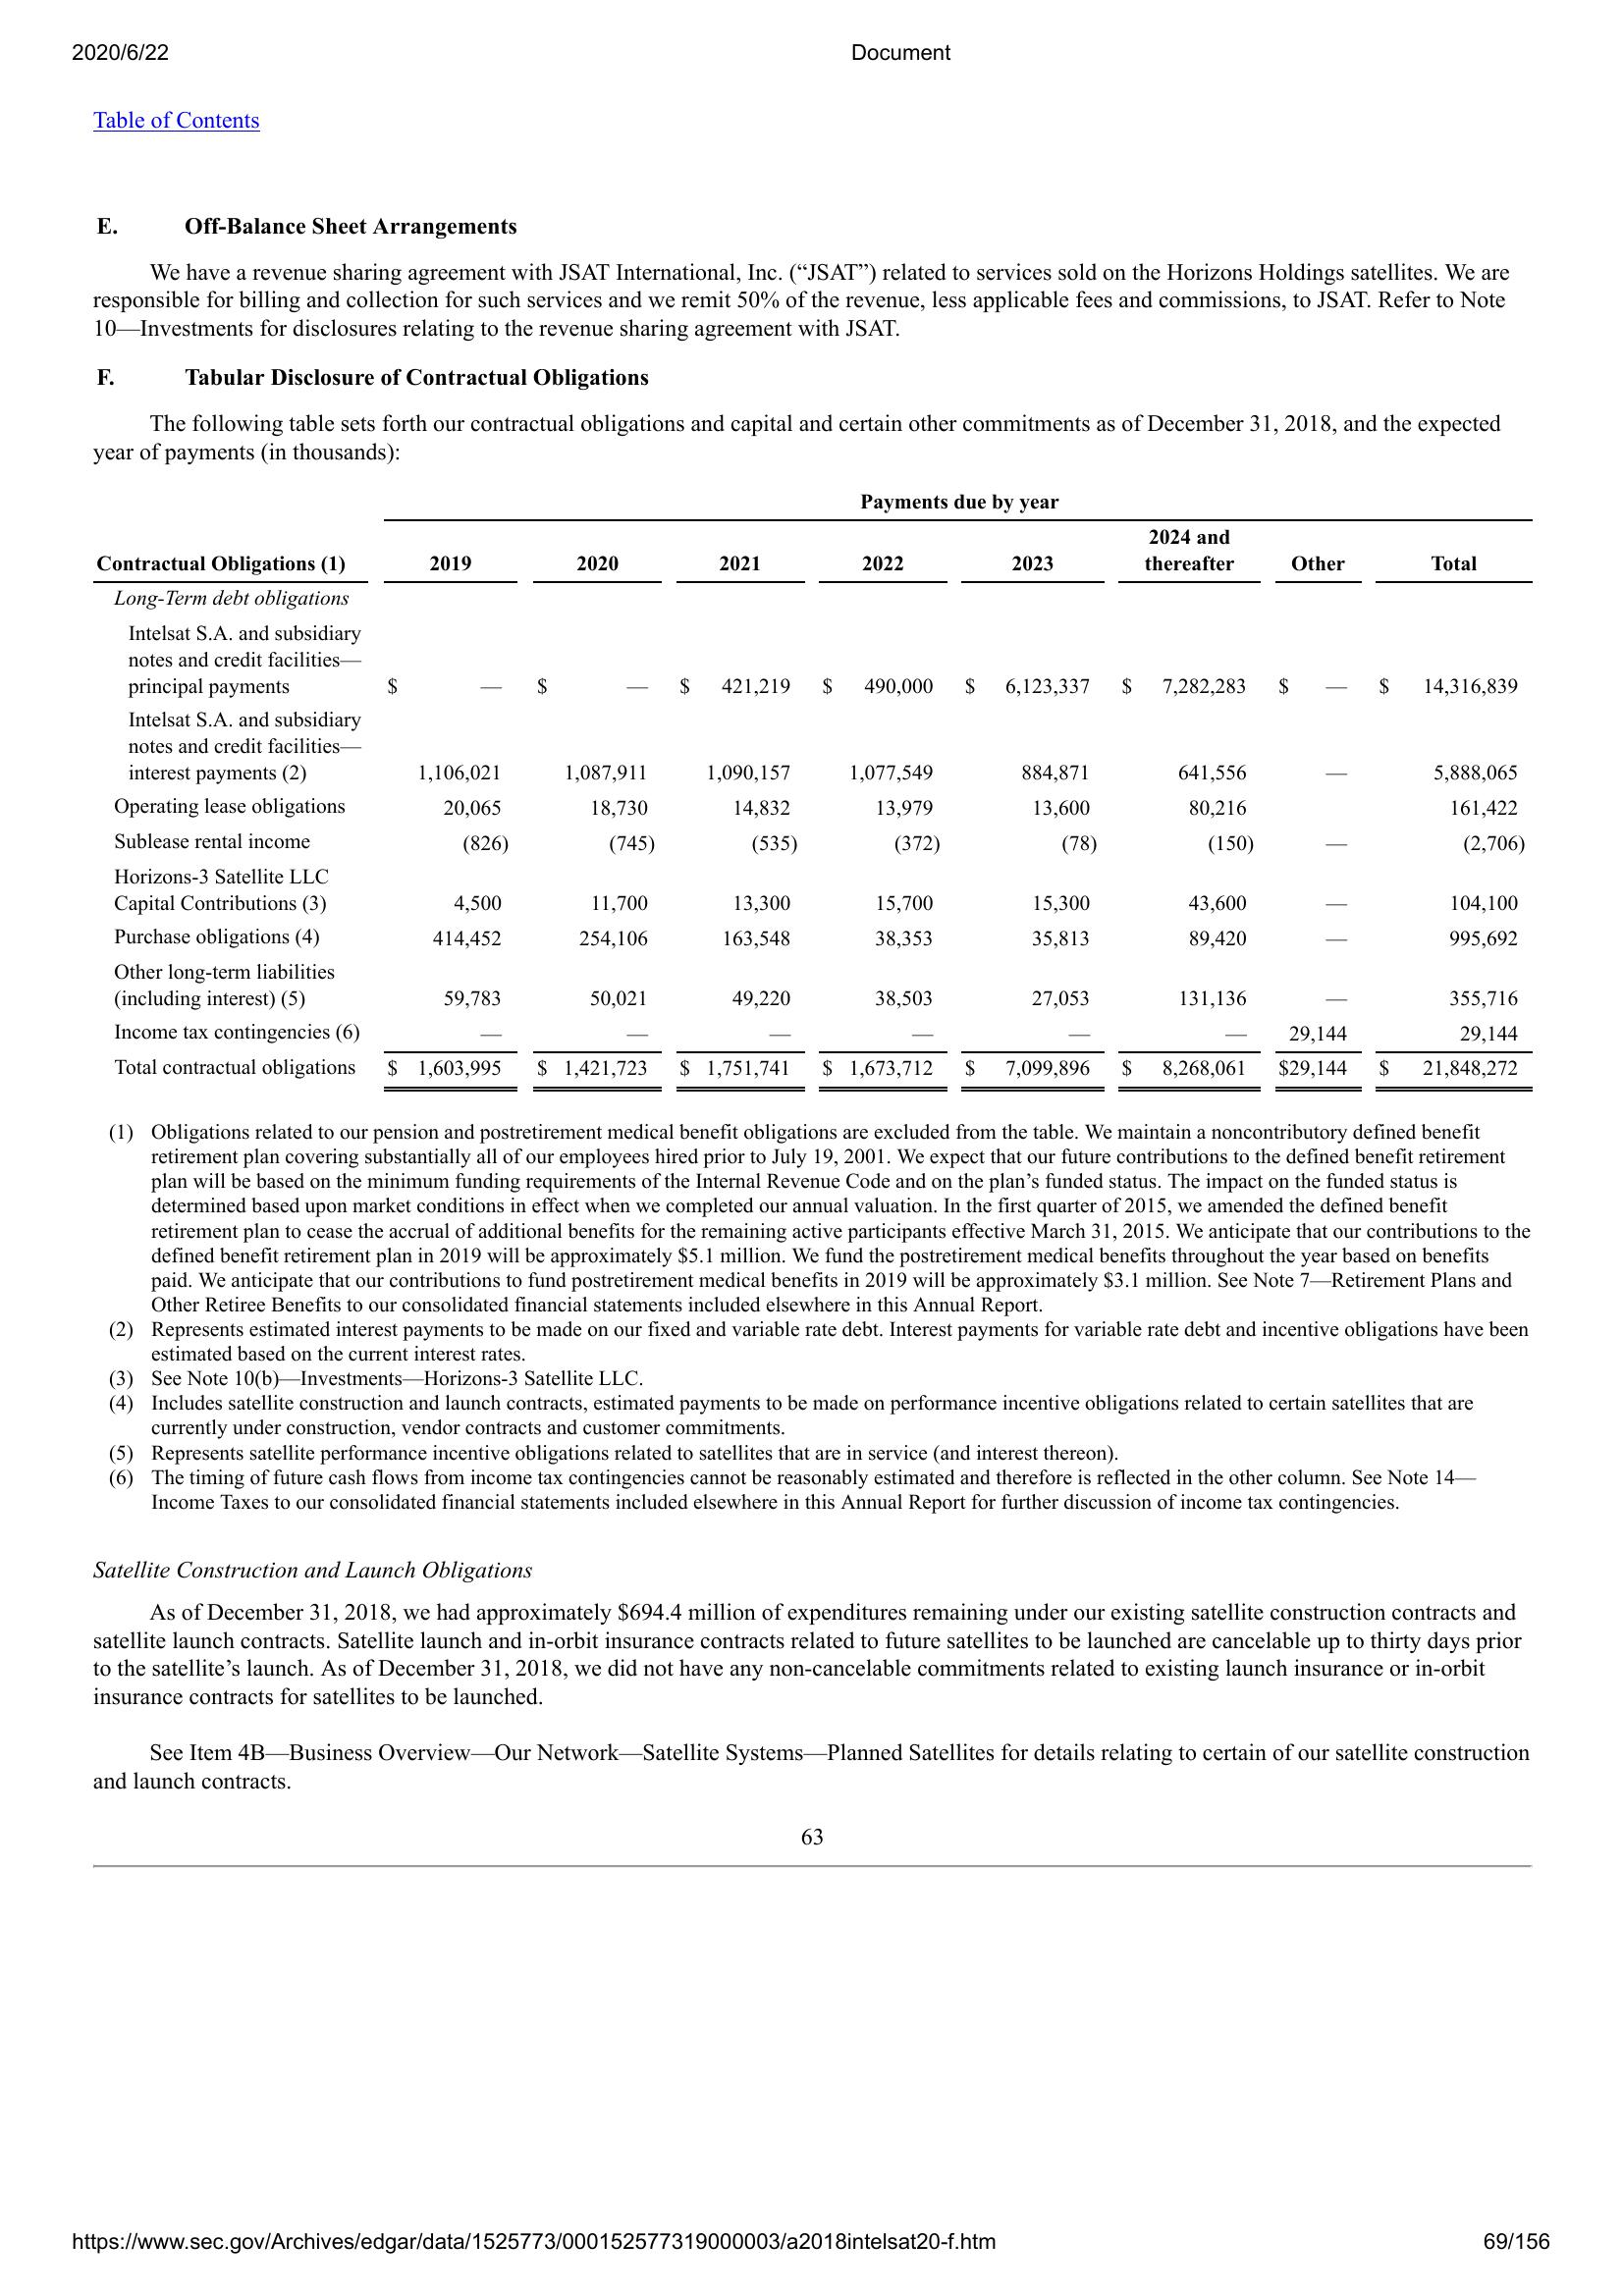table: (84, 491, 1546, 1097)
